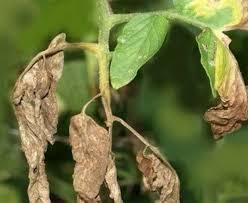Verticillium wilt: (12, 33, 65, 202), (69, 108, 110, 202), (204, 54, 247, 138), (136, 151, 179, 202)
